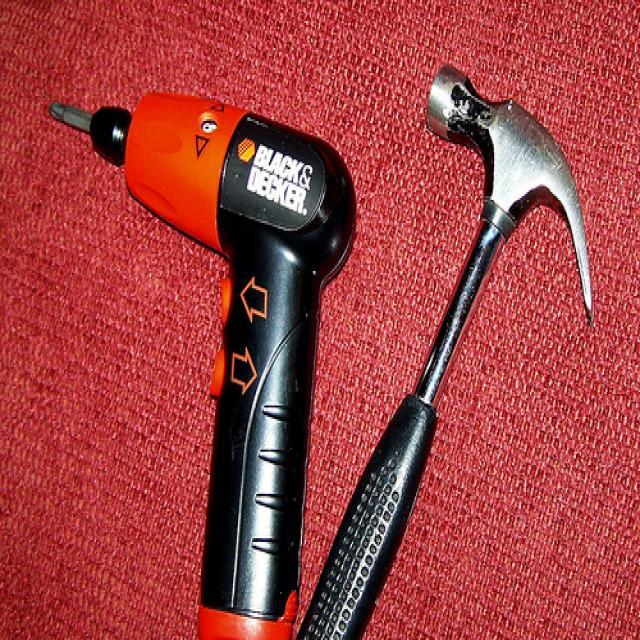drill: (39, 63, 362, 640)
hammer: (303, 52, 606, 640)
